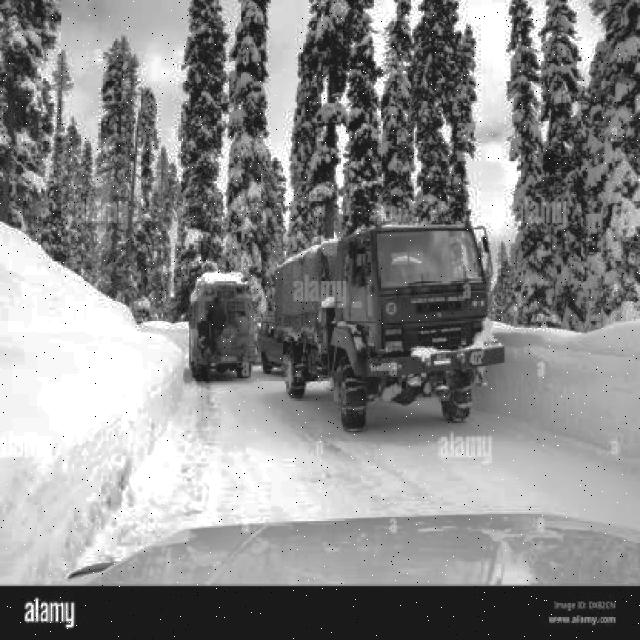HCV: (254, 256, 483, 428)
